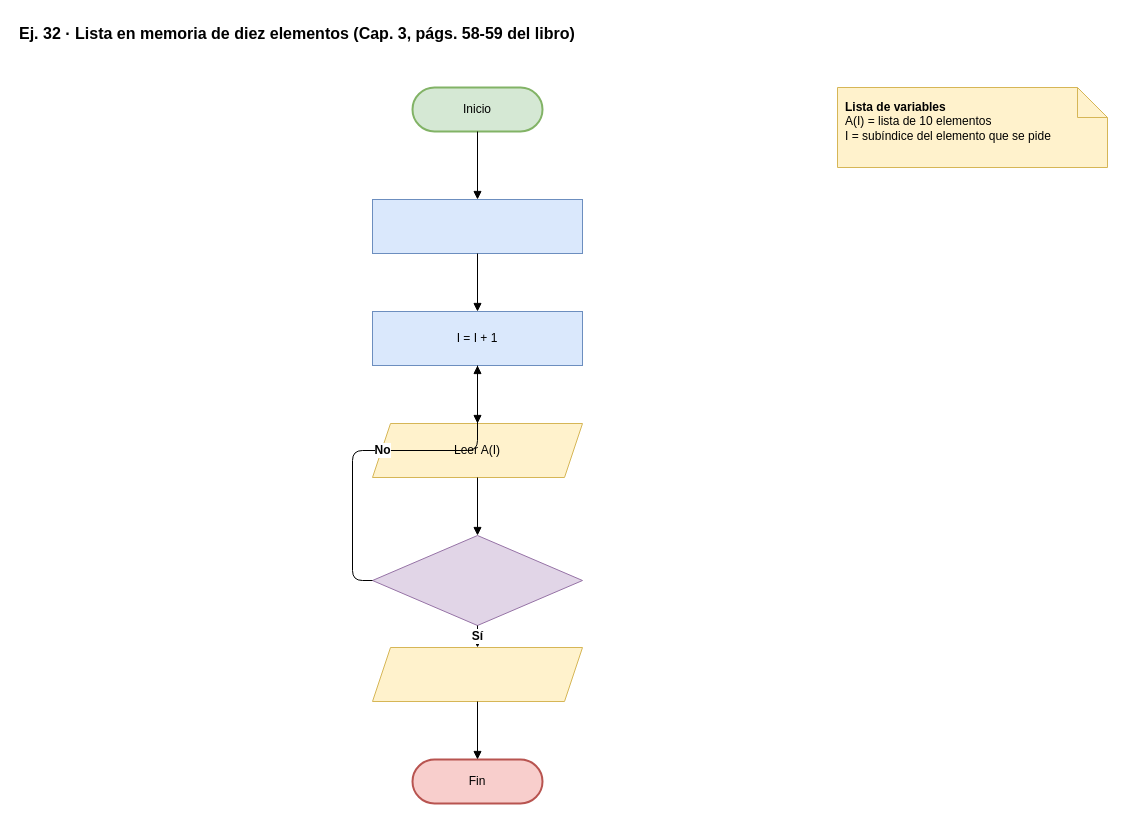
Image size: 1125x821. Some labels were removed from this diagram. The centre of each missing label's shape, as x and y in pixels:
Escribir la lista A(1..10): point (477, 674)
I = 0: point (477, 226)
I = 10 ?: point (477, 580)
